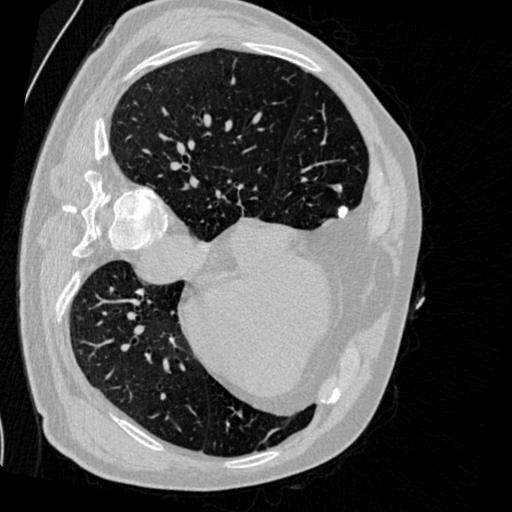nodule: (334, 202, 353, 221)
